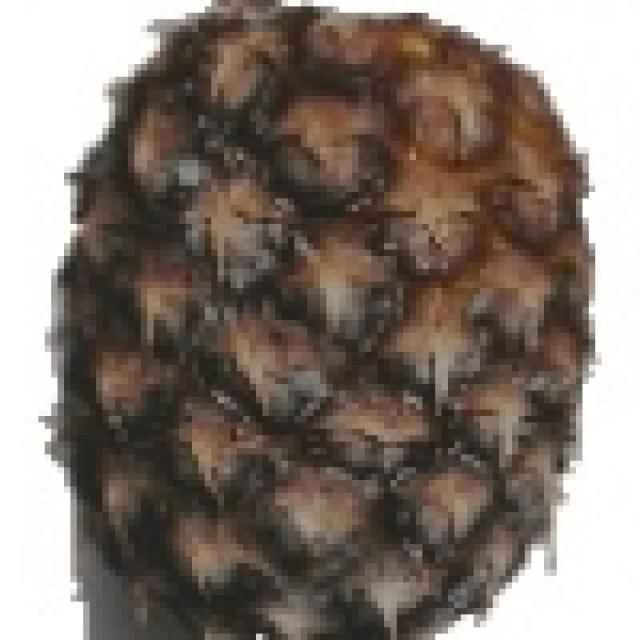pineapple: (49, 0, 592, 639)
